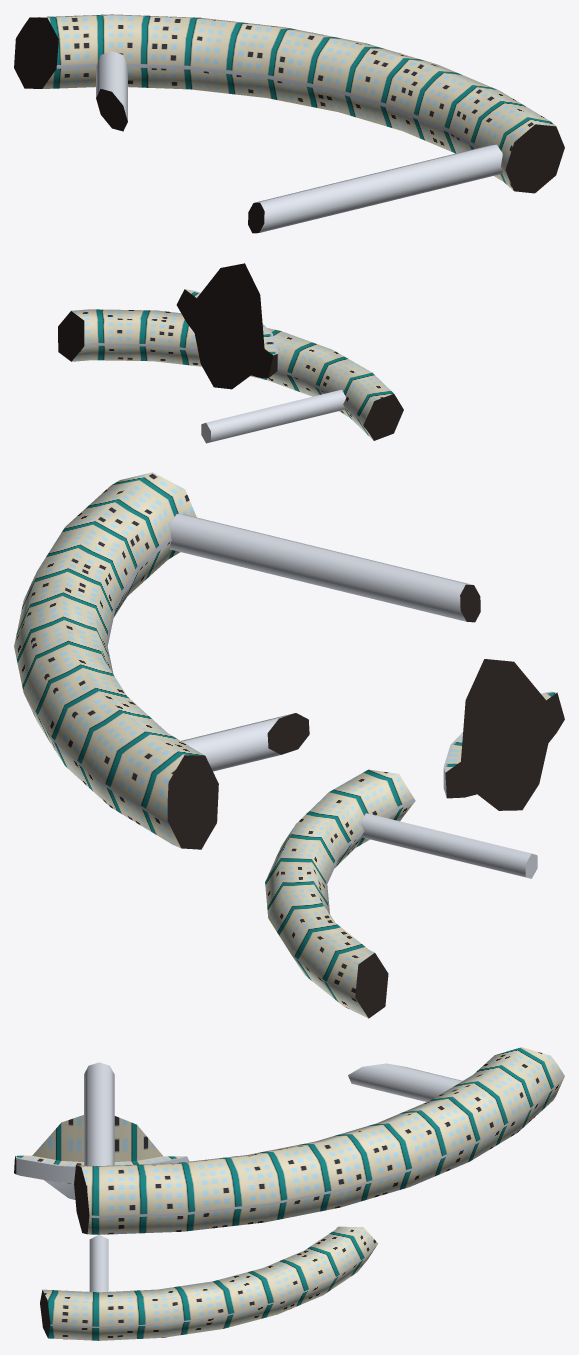
The model's file is research_station_debris1.obj.
The picture shows the model from 3 angles, top to bottom: view 1: azimuth 30°, elevation 25°; view 2: azimuth 150°, elevation 25°; view 3: azimuth 270°, elevation 25°; orthographic projection. The views are drawn at different scales.
Visible parts, largest first — view 1: lab_ring, lab_ring2, spoke, hub, spoke2; view 2: lab_ring, lab_ring2, spoke, hub, spoke2; view 3: lab_ring, lab_ring2, spoke, hub, spoke2.
Part boxes in pixels (left/top/right/bottom): lab_ring: left=14, top=14, right=564, bottom=193; lab_ring2: left=58, top=309, right=403, bottom=440; spoke: left=96, top=51, right=502, bottom=233; hub: left=176, top=263, right=278, bottom=389; spoke2: left=201, top=389, right=345, bottom=443; lab_ring: left=14, top=472, right=218, bottom=849; lab_ring2: left=265, top=769, right=415, bottom=1018; spoke: left=169, top=514, right=480, bottom=771; hub: left=443, top=659, right=564, bottom=810; spoke2: left=361, top=813, right=537, bottom=878; lab_ring: left=74, top=1047, right=564, bottom=1234; lab_ring2: left=40, top=1226, right=377, bottom=1340; spoke: left=84, top=1062, right=462, bottom=1165; hub: left=14, top=1115, right=189, bottom=1199; spoke2: left=89, top=1235, right=108, bottom=1292.
Bounding box in the file's own units: 65.35 × 44.46 × 90.35.
Materials: 3 (1 with a texture image).
